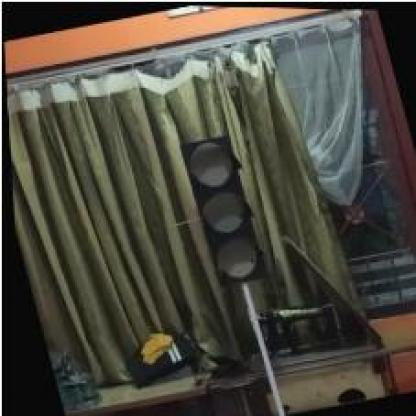green: (175, 129, 265, 285)
